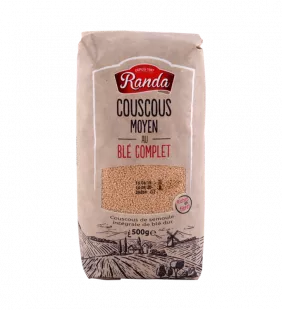RANDA: (68, 20, 213, 290)
